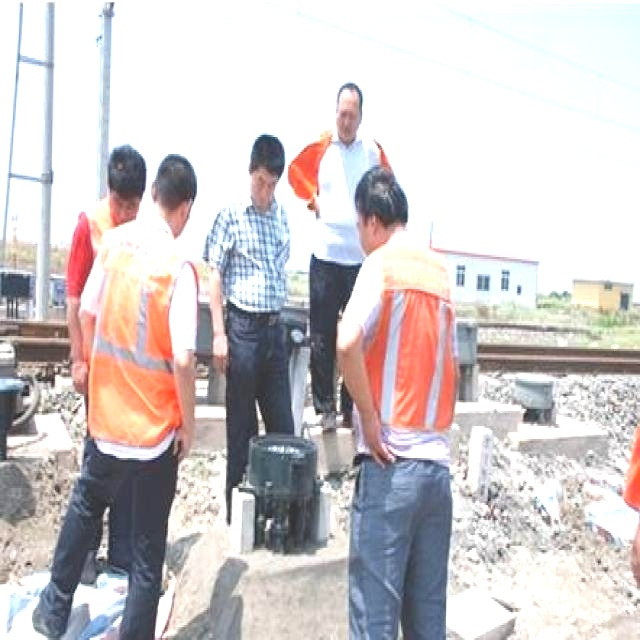Con_Chaleco: (84, 224, 200, 455), (353, 238, 458, 457)
Sin_Chaleco: (218, 193, 293, 323)
